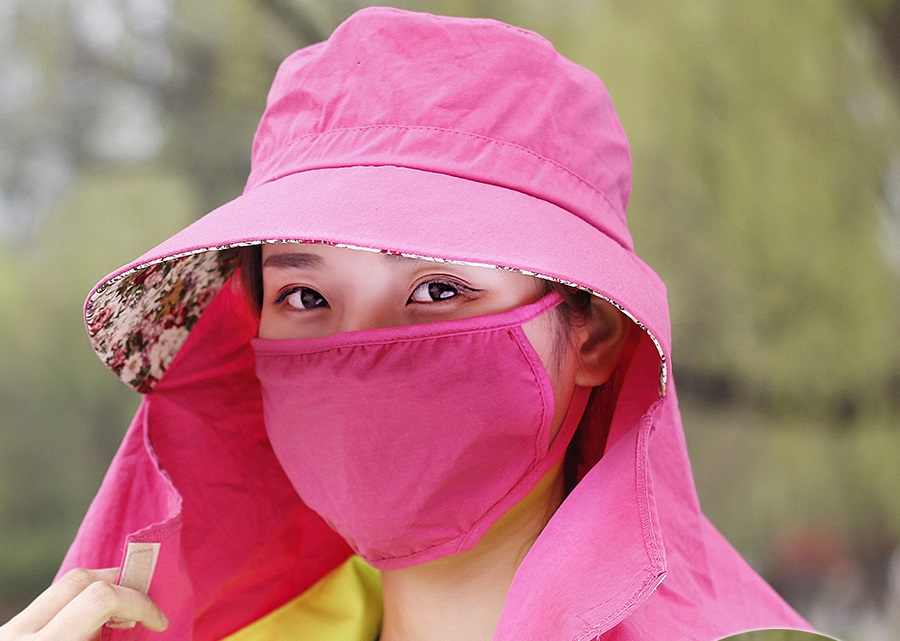face_mask: (259, 202, 560, 563)
